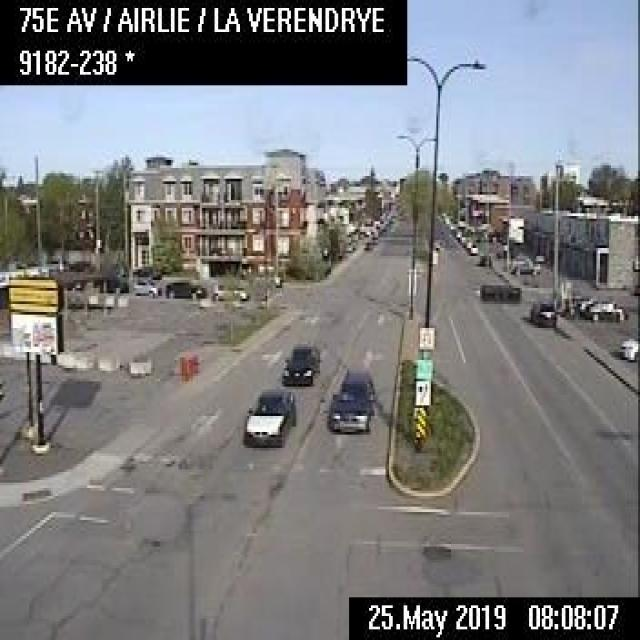construction: (190, 351, 197, 374), (178, 355, 184, 378), (183, 358, 189, 379)
vehicle: (240, 386, 294, 445), (328, 366, 377, 430), (279, 341, 319, 385), (584, 296, 625, 320), (162, 278, 204, 298), (527, 296, 555, 325), (207, 283, 246, 300), (128, 274, 158, 296), (97, 271, 130, 290), (618, 334, 638, 360), (510, 258, 540, 272), (476, 250, 491, 266), (361, 235, 372, 251), (468, 240, 478, 256), (464, 236, 471, 247)
